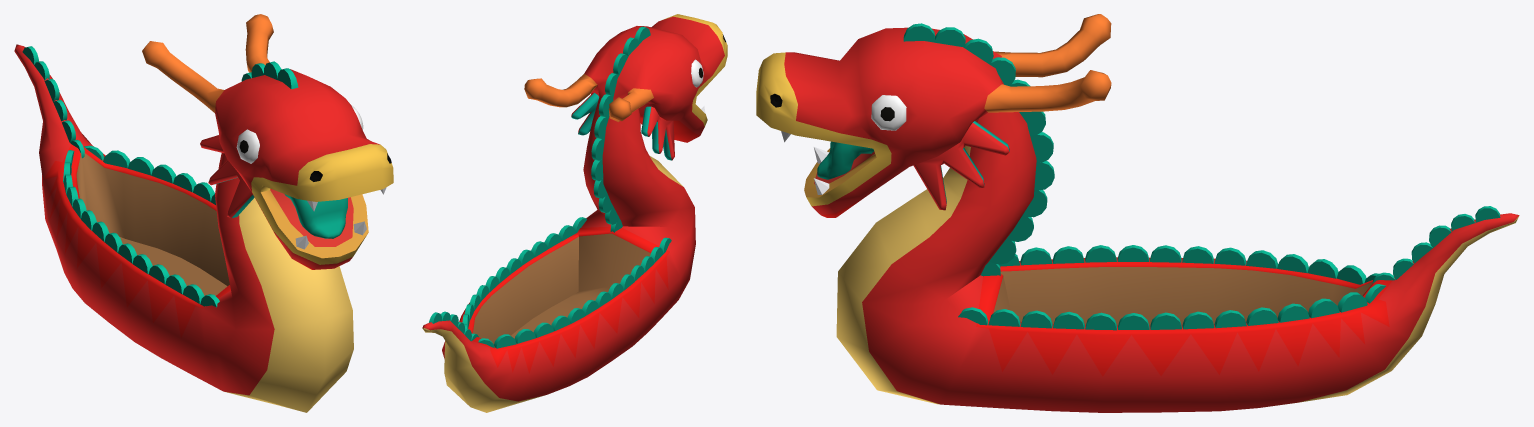
File: Boat6.fbx
3 views of the same model, side by side, from view 1: azimuth 30°, elevation 25°; view 2: azimuth 150°, elevation 25°; view 3: azimuth 270°, elevation 25° (orthographic). The views are drawn at different scales.
Parts seen in each view (by area): view 1: Scene_Mat.5_0.001; view 2: Scene_Mat.5_0.001; view 3: Scene_Mat.5_0.001.
Boxes of the visible parts, box(x1,y1,x2,y2) form: Scene_Mat.5_0.001: box(14, 14, 393, 412); Scene_Mat.5_0.001: box(422, 14, 727, 412); Scene_Mat.5_0.001: box(756, 14, 1519, 412).
Bounding box in the file's own units: 0.7749 × 1.62 × 2.95.
